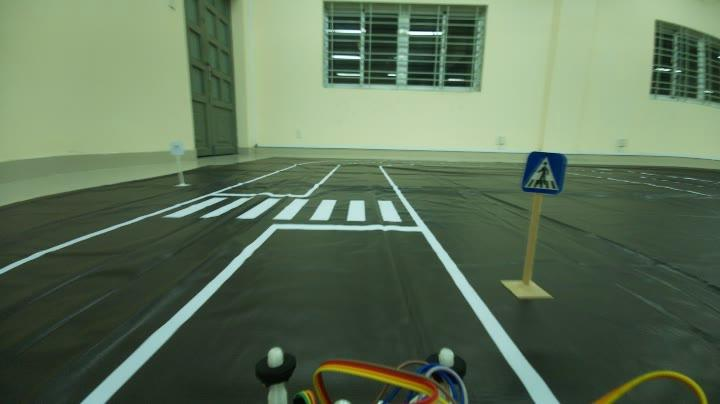crosswalk: (516, 142, 576, 206)
